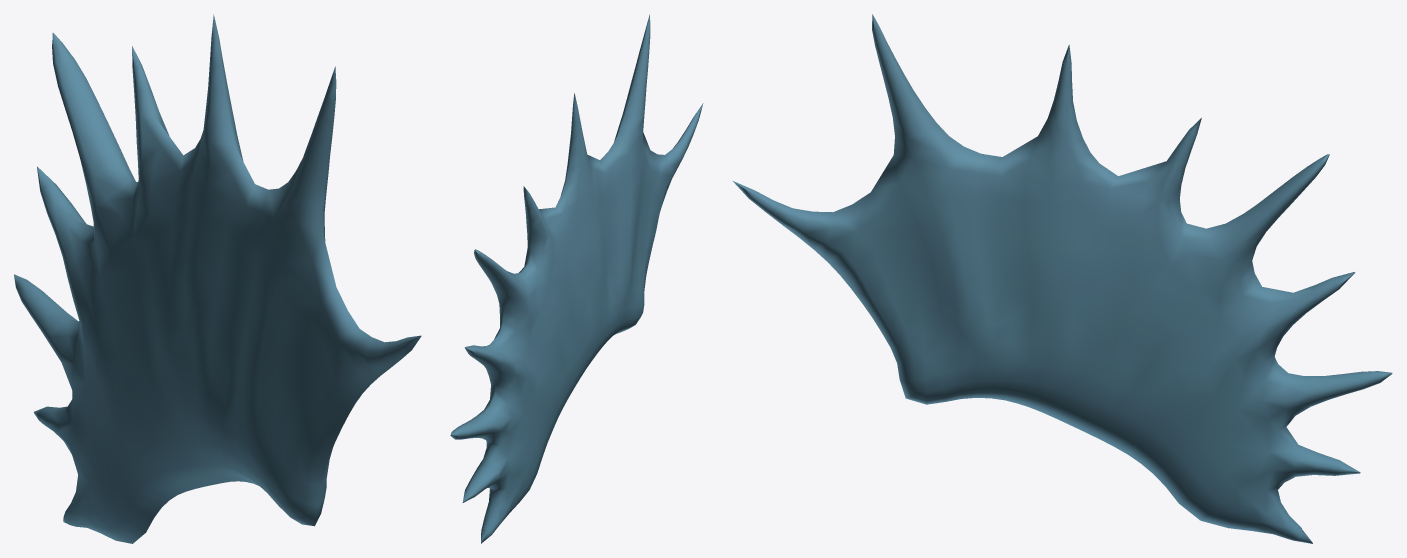
Rendered from potato_hair3.fbx.
3 renders of one model, left to right at view 1: azimuth 30°, elevation 25°; view 2: azimuth 150°, elevation 25°; view 3: azimuth 270°, elevation 25°, orthographic. The views are drawn at different scales.
Visible parts, largest first — view 1: hair1; view 2: hair1; view 3: hair1.
Part boxes in pixels (x1,y1,x2,y2): hair1: (14, 14, 421, 543); hair1: (450, 14, 703, 543); hair1: (733, 14, 1392, 543).
Bounding box in the file's own units: 0.2202 × 2.25 × 2.54.
